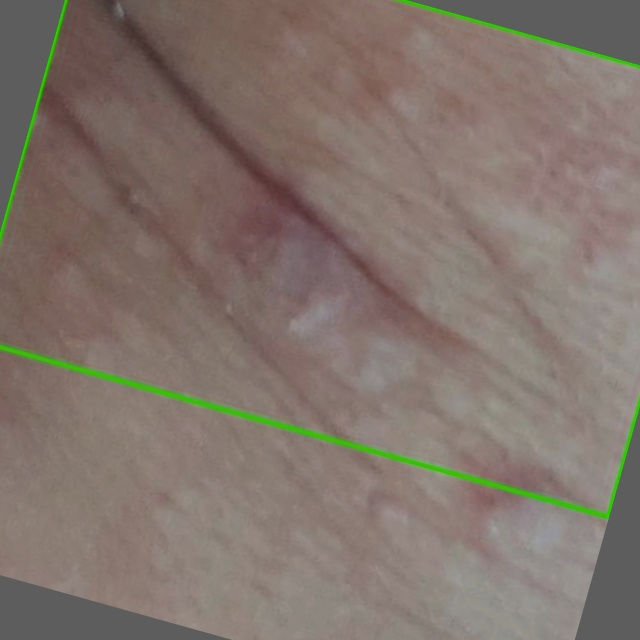Scabies: (0, 0, 639, 517)
